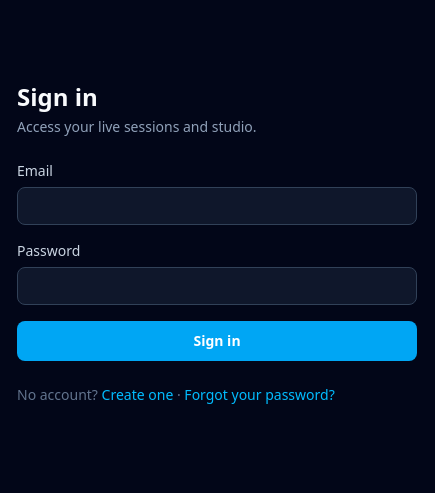
Sign-in with single sign-on › reports a provider that could not be reached instead of hanging
Type "person@northwind.example" into the field labelled "Email".
click(217, 206); type("person@northwind.example")  # box [17, 187, 417, 225]
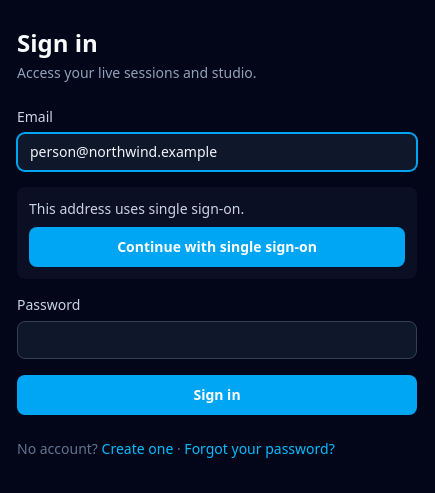
Click the button "Continue with single sign-on".
click(217, 247)  # box [29, 227, 405, 267]
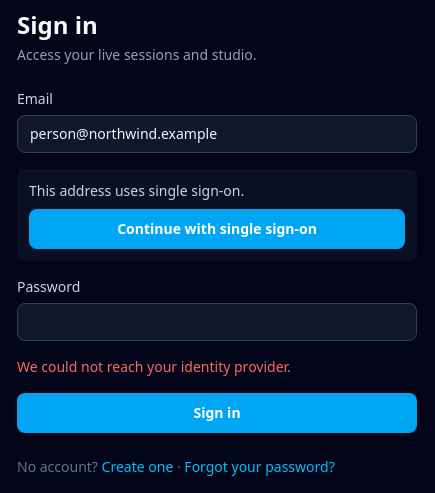
Check: the message shows "could not reach", box [17, 357, 291, 376]
